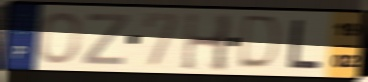7: (141, 11, 183, 70)
D: (235, 13, 284, 73)
H: (179, 10, 234, 73)
L: (285, 17, 323, 71)
O: (36, 11, 83, 66)
Z: (80, 12, 131, 67)
